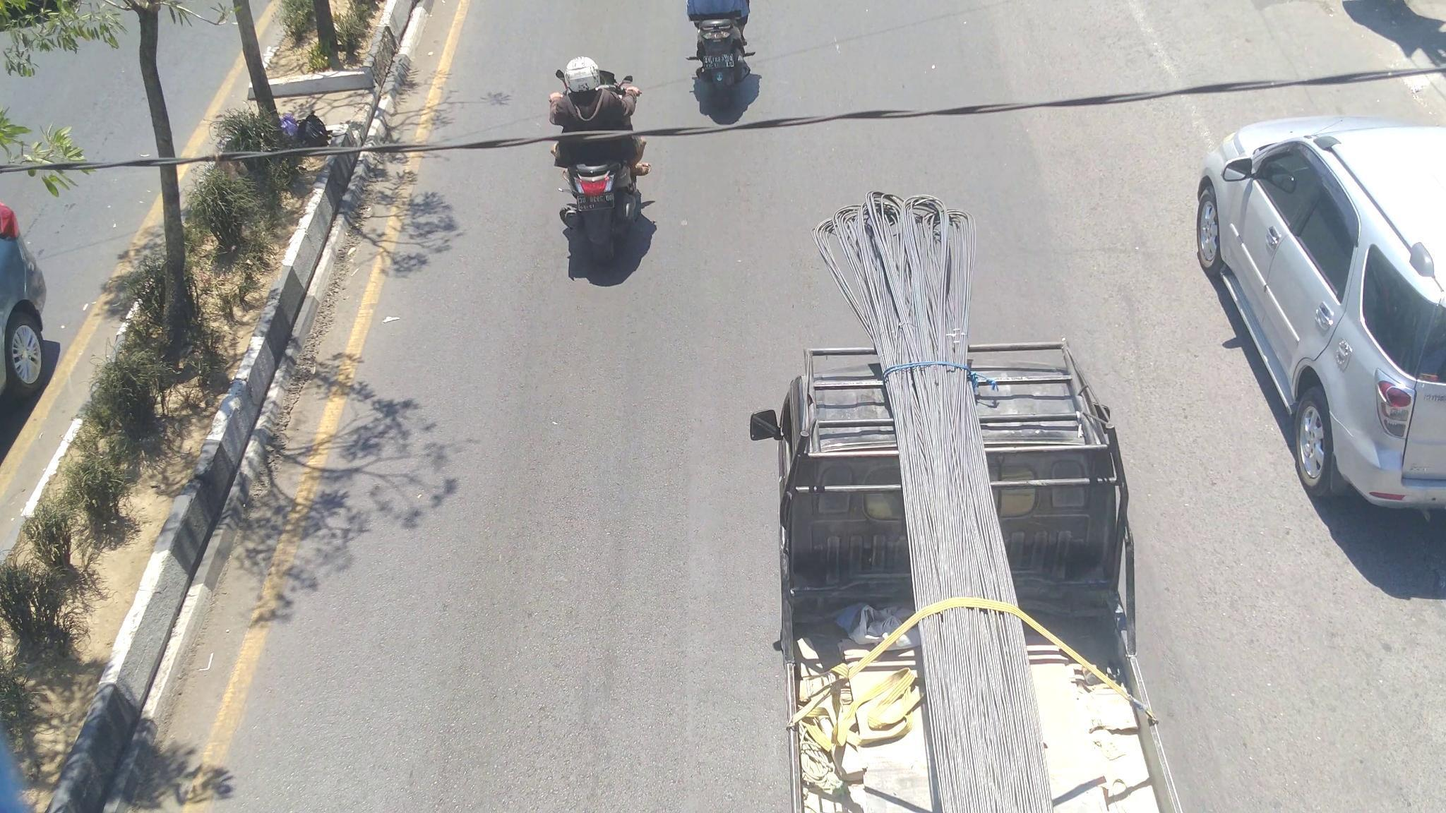Helmet: (562, 54, 604, 98)
bike: (551, 64, 653, 267), (685, 2, 757, 112)
rider: (549, 53, 651, 176)
